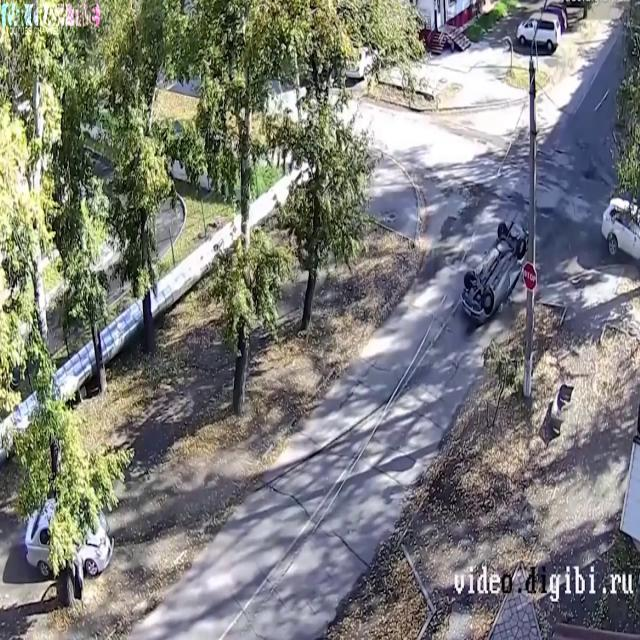Accident: (447, 198, 533, 344)
